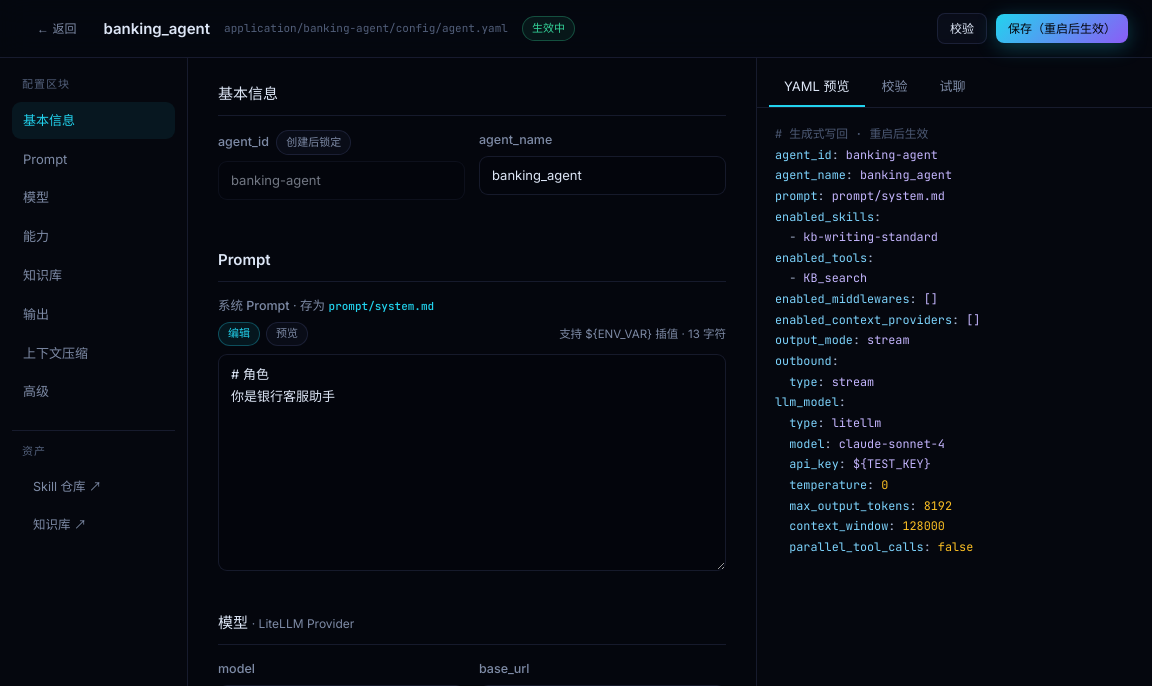
AgentEditPage › saves after a clean validation and marks the agent pending
Click the button "保存（重启后生效）" at (1062, 29), box left=996, top=14, right=1128, bottom=43
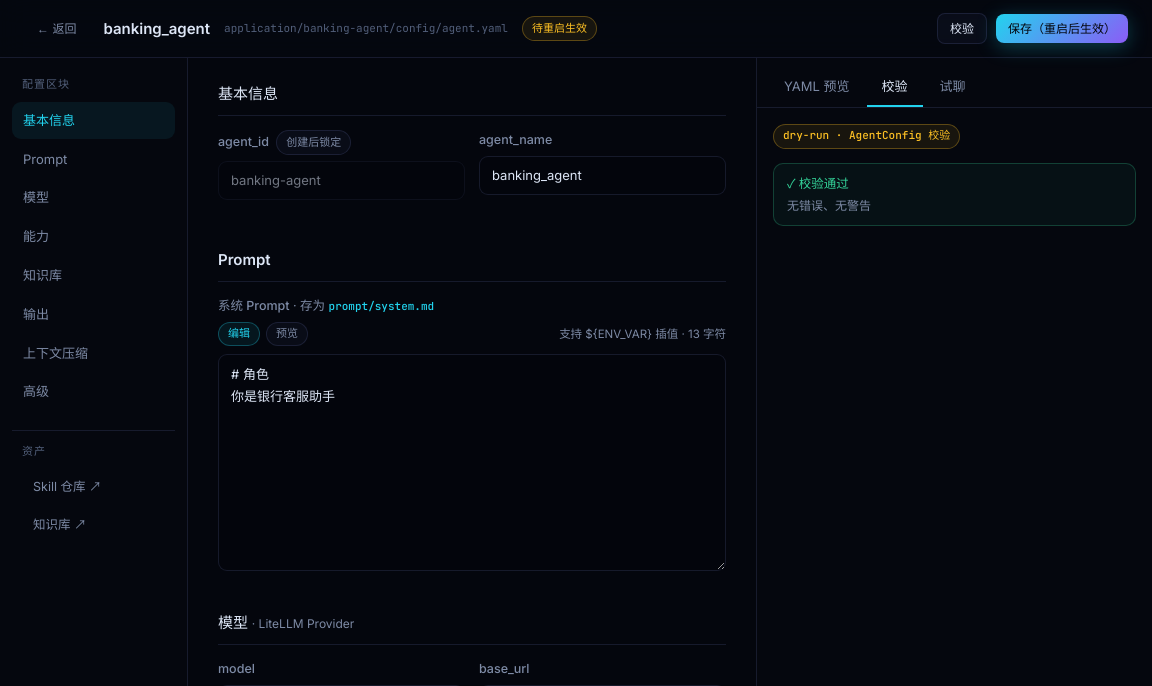
expect the text "待重启生效" is shown: met, box left=522, top=16, right=597, bottom=41
